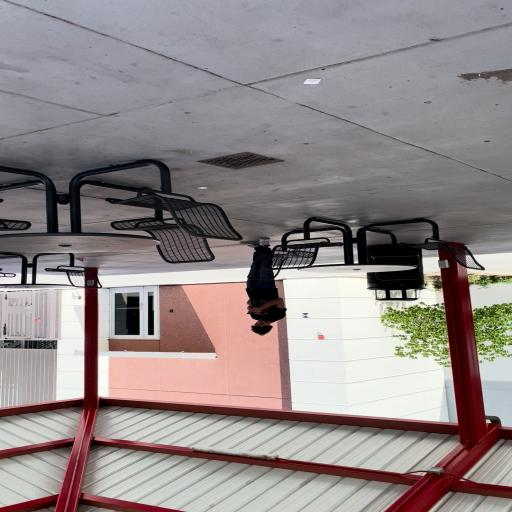target2: (302, 313, 309, 318)
